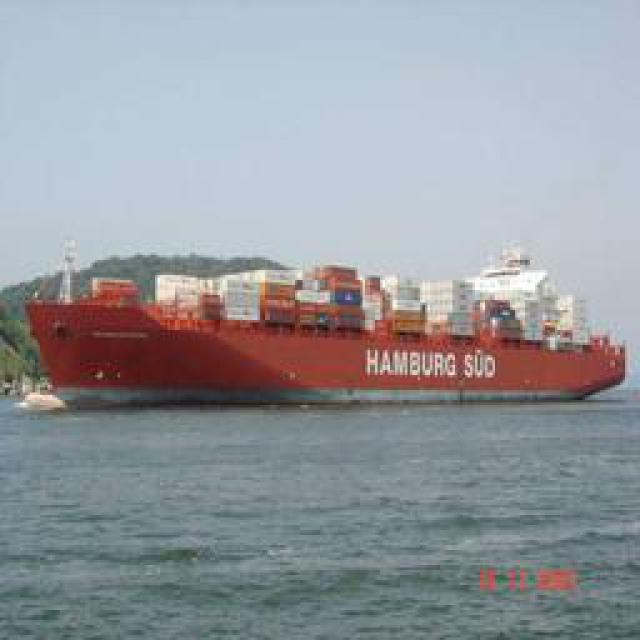Ship: (12, 242, 632, 412)
